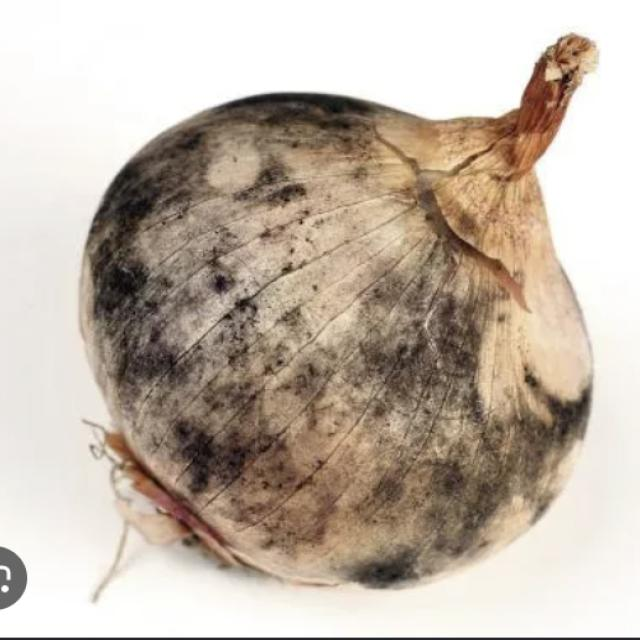mechanical_damage: (82, 34, 595, 586)
